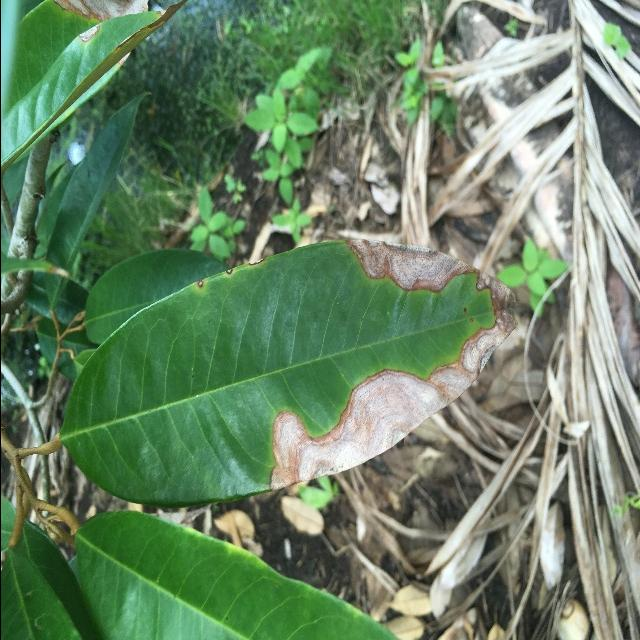Leaf Blight: (51, 227, 543, 513)
